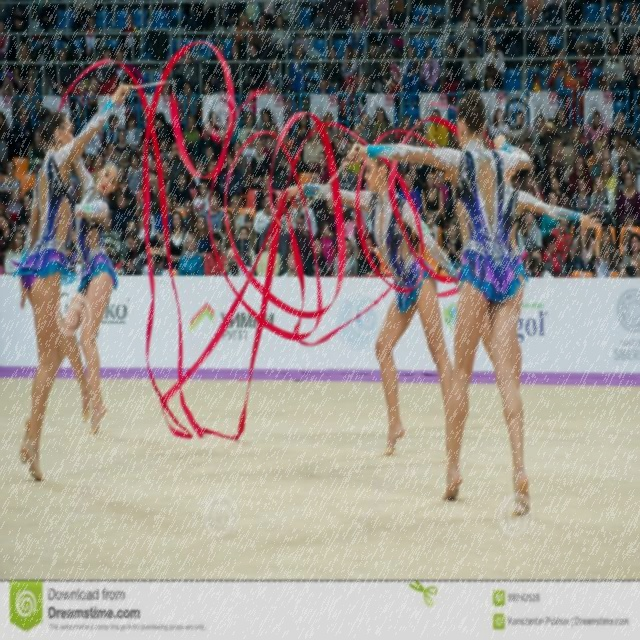pessoa: (343, 79, 541, 526), (281, 145, 456, 461), (9, 75, 136, 482), (479, 169, 604, 394), (63, 144, 122, 438), (522, 6, 558, 72), (258, 204, 290, 278), (200, 231, 230, 309), (614, 170, 640, 252), (344, 11, 372, 87), (530, 113, 554, 196), (287, 210, 315, 278), (281, 192, 318, 240), (133, 192, 159, 260), (162, 210, 190, 270), (174, 47, 207, 95), (480, 33, 506, 93), (588, 173, 616, 227), (420, 170, 445, 230), (271, 133, 297, 190), (624, 35, 640, 126), (461, 36, 484, 99), (218, 148, 242, 207), (501, 6, 523, 70), (516, 208, 543, 260), (540, 191, 570, 237), (454, 7, 480, 60), (194, 120, 222, 169), (308, 0, 332, 57), (442, 42, 463, 106), (115, 10, 140, 62), (566, 153, 594, 199), (402, 44, 422, 108), (7, 0, 33, 49), (11, 105, 35, 158), (101, 210, 122, 270), (318, 196, 338, 258), (224, 43, 244, 105), (270, 14, 291, 73), (337, 154, 358, 212), (16, 42, 37, 100), (316, 218, 336, 278), (253, 194, 273, 254), (569, 226, 595, 272), (538, 118, 564, 164), (256, 231, 282, 277), (540, 232, 567, 276), (604, 0, 625, 56), (305, 170, 326, 226), (123, 229, 148, 276), (569, 177, 591, 230), (601, 42, 625, 90), (288, 42, 310, 94), (132, 247, 170, 277), (111, 189, 132, 243), (614, 155, 638, 202), (608, 111, 630, 162), (332, 236, 360, 276), (156, 192, 176, 248), (178, 234, 204, 276), (443, 220, 463, 274), (367, 108, 395, 146), (302, 125, 324, 173), (4, 228, 26, 276), (523, 244, 554, 278), (220, 246, 254, 276), (217, 210, 239, 256), (323, 46, 345, 92), (398, 171, 422, 213), (421, 46, 442, 94), (250, 138, 270, 188), (234, 10, 254, 60), (202, 157, 222, 207), (252, 12, 272, 61), (52, 46, 72, 95), (80, 16, 101, 62), (305, 237, 329, 277), (426, 108, 450, 148), (237, 225, 256, 275), (180, 0, 204, 39), (232, 139, 250, 191), (408, 161, 425, 216), (358, 235, 380, 277), (544, 136, 566, 178), (566, 124, 588, 166), (255, 172, 277, 214), (520, 155, 543, 195), (177, 82, 200, 122), (203, 192, 224, 235), (598, 226, 618, 271), (247, 40, 265, 90), (279, 247, 308, 278), (546, 48, 566, 92), (386, 50, 402, 105), (374, 44, 391, 94), (126, 152, 144, 199), (510, 110, 531, 150), (112, 126, 132, 168), (238, 111, 260, 149), (0, 111, 17, 160), (342, 44, 358, 96), (229, 194, 247, 240), (555, 64, 573, 110), (19, 78, 42, 114), (28, 128, 46, 174), (363, 44, 380, 92), (612, 143, 634, 180), (124, 111, 142, 156), (547, 174, 570, 209), (522, 137, 542, 177), (195, 213, 212, 260), (586, 109, 610, 142), (241, 130, 259, 174), (553, 107, 573, 146), (616, 134, 638, 169), (172, 172, 194, 207), (488, 106, 512, 138), (6, 187, 24, 229), (102, 114, 120, 156), (202, 1, 224, 35), (543, 161, 565, 195), (15, 191, 33, 232), (156, 81, 172, 127), (207, 41, 225, 81), (367, 12, 387, 48), (153, 112, 174, 146), (477, 16, 504, 42), (201, 111, 221, 145), (594, 236, 610, 278), (1, 158, 22, 190), (576, 48, 592, 90), (281, 0, 297, 42), (244, 213, 259, 257), (182, 113, 202, 146), (267, 58, 285, 94), (434, 168, 450, 208), (188, 158, 208, 190), (620, 252, 640, 284), (202, 156, 220, 191), (546, 0, 563, 37), (524, 171, 544, 202), (36, 0, 58, 28), (294, 114, 312, 148), (200, 144, 218, 178), (161, 158, 176, 198), (331, 135, 348, 170), (313, 150, 330, 184), (339, 84, 355, 120), (292, 24, 310, 56), (0, 73, 18, 104), (182, 199, 198, 233), (624, 3, 640, 37), (592, 132, 610, 161), (257, 108, 273, 140), (424, 210, 439, 244), (589, 148, 604, 182), (396, 114, 412, 145), (322, 111, 338, 142), (138, 138, 154, 169), (140, 116, 154, 150), (244, 2, 260, 31), (281, 206, 297, 234), (0, 20, 10, 63), (263, 1, 277, 31), (360, 108, 371, 146), (88, 153, 106, 175), (342, 208, 355, 238), (158, 136, 172, 163), (609, 134, 620, 168), (621, 228, 633, 255), (104, 141, 116, 164), (530, 70, 542, 92), (84, 153, 96, 174), (373, 126, 385, 147), (98, 46, 114, 60), (148, 158, 159, 178), (268, 122, 278, 142), (624, 214, 634, 230), (320, 76, 328, 95), (414, 128, 424, 142), (170, 140, 180, 153), (116, 48, 124, 62)
